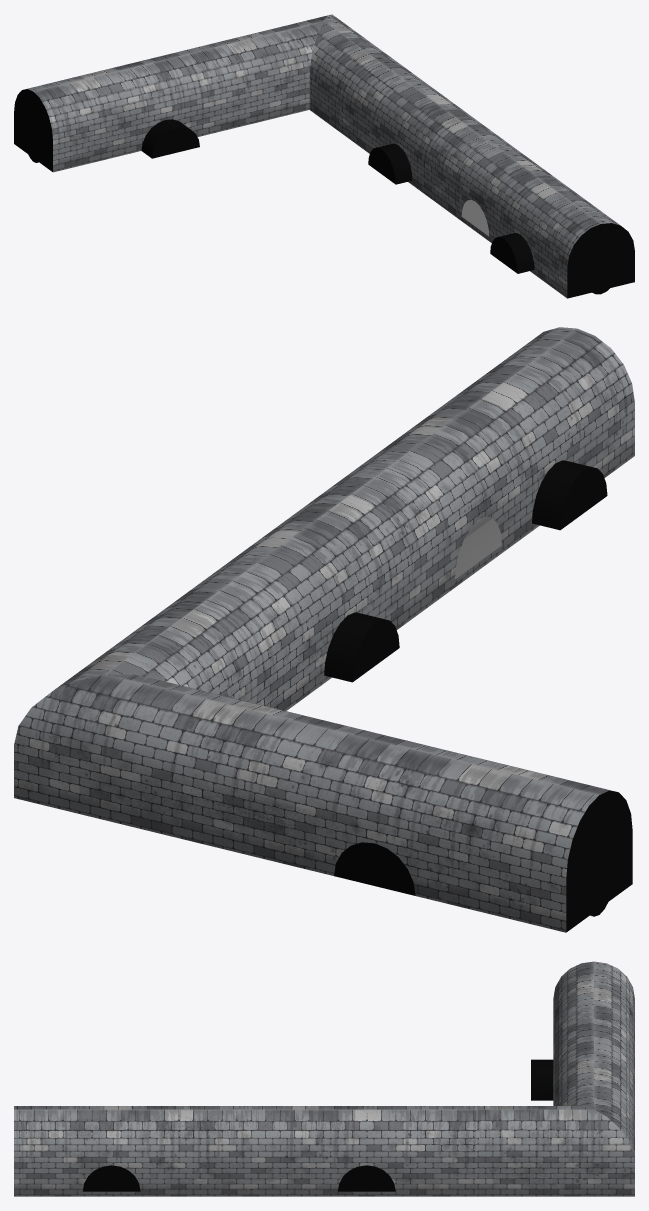
The model's file is obj_sewer 1.fbx.
3 renders of one model, top to bottom at view 1: azimuth 30°, elevation 25°; view 2: azimuth 150°, elevation 25°; view 3: azimuth 270°, elevation 25°, orthographic. The views are drawn at different scales.
Parts seen in each view (by area): view 1: obj_sewer; view 2: obj_sewer; view 3: obj_sewer.
Boxes of the visible parts, x1,y1,x2,y2 form: obj_sewer: [14, 14, 634, 298]; obj_sewer: [14, 327, 634, 932]; obj_sewer: [14, 961, 634, 1196].
Bounding box in the file's own units: 54.73 × 11.35 × 86.82.
Materials: 1 (1 with a texture image).
